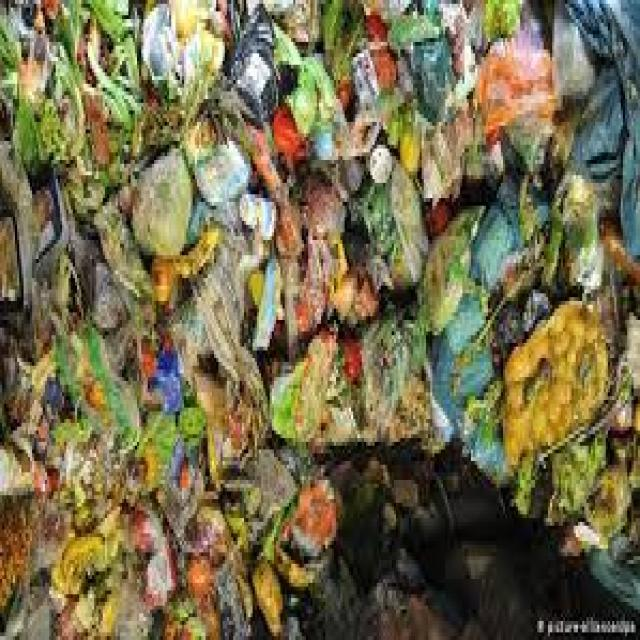food_waste: (20, 32, 622, 413), (29, 54, 305, 626)
